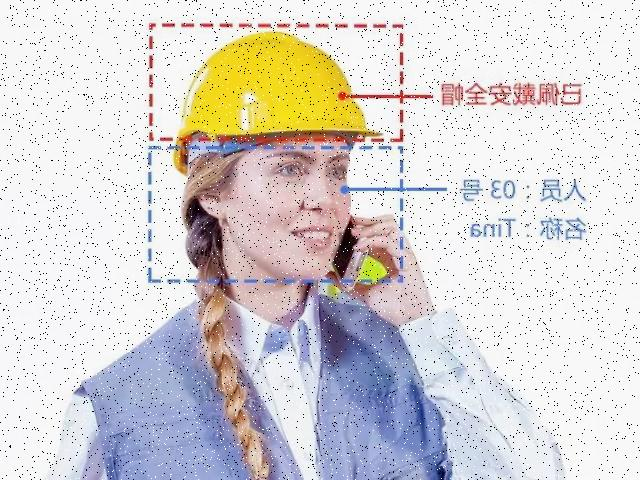Helmet: (172, 26, 389, 176)
